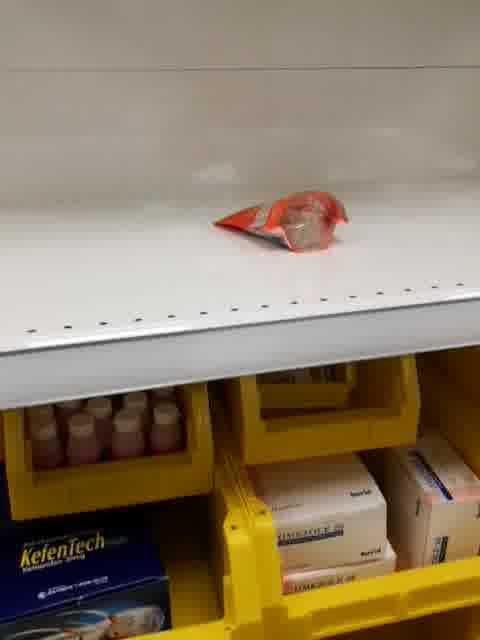whitechia: (209, 184, 352, 257)
